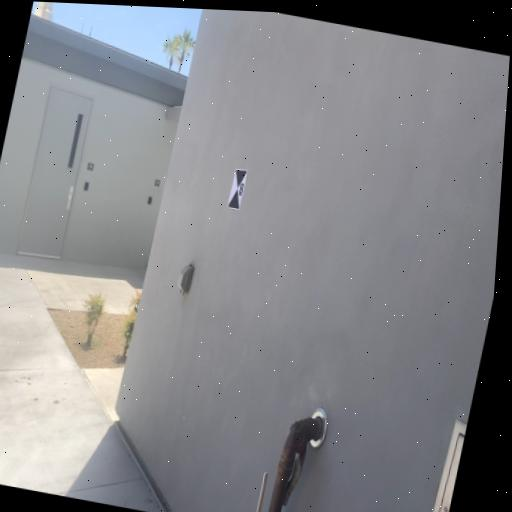target8: (227, 169, 248, 210)
